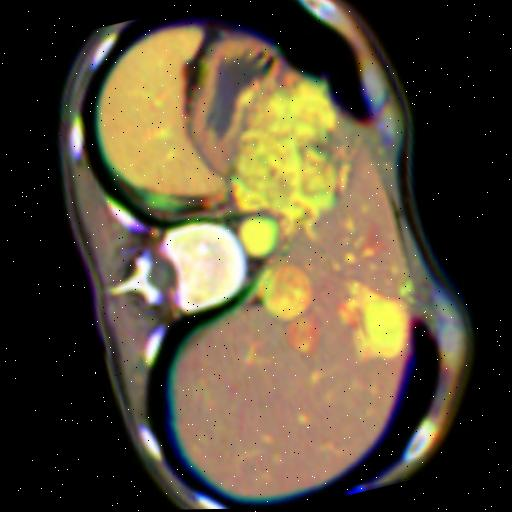Tumor: (286, 311, 319, 355)
